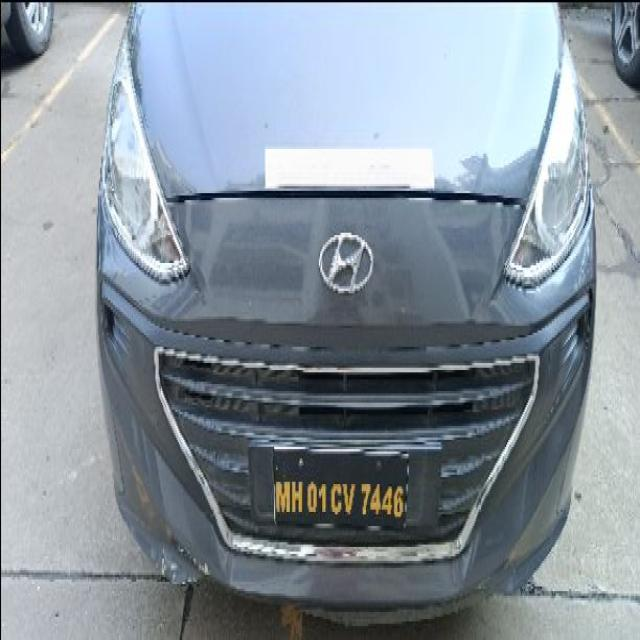license_plate: (95, 2, 597, 614), (271, 444, 410, 530)
